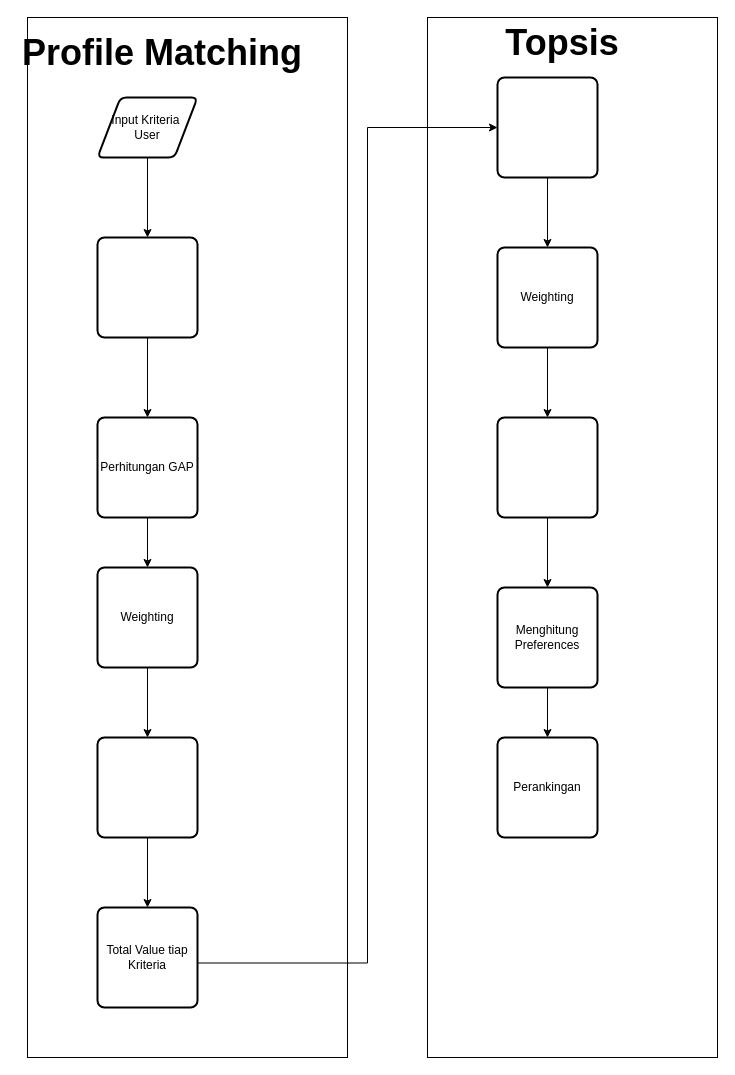
The diagram is 735 pixels wide and 1075 high, and some of its shapes have lost their labels. Each missing label, with the box of its shape:
Menghitung nilai Positife Ideal dan Negative Ideal (Dplus, Dminus): (496, 416, 598, 518)
Min Max Normalization: (96, 236, 198, 338)
Normalisasi Nilai Final Value Kriteria: (496, 76, 598, 178)
Penghitungan Core Factor dan Secondary Factor per subkriteria: (96, 736, 198, 838)
